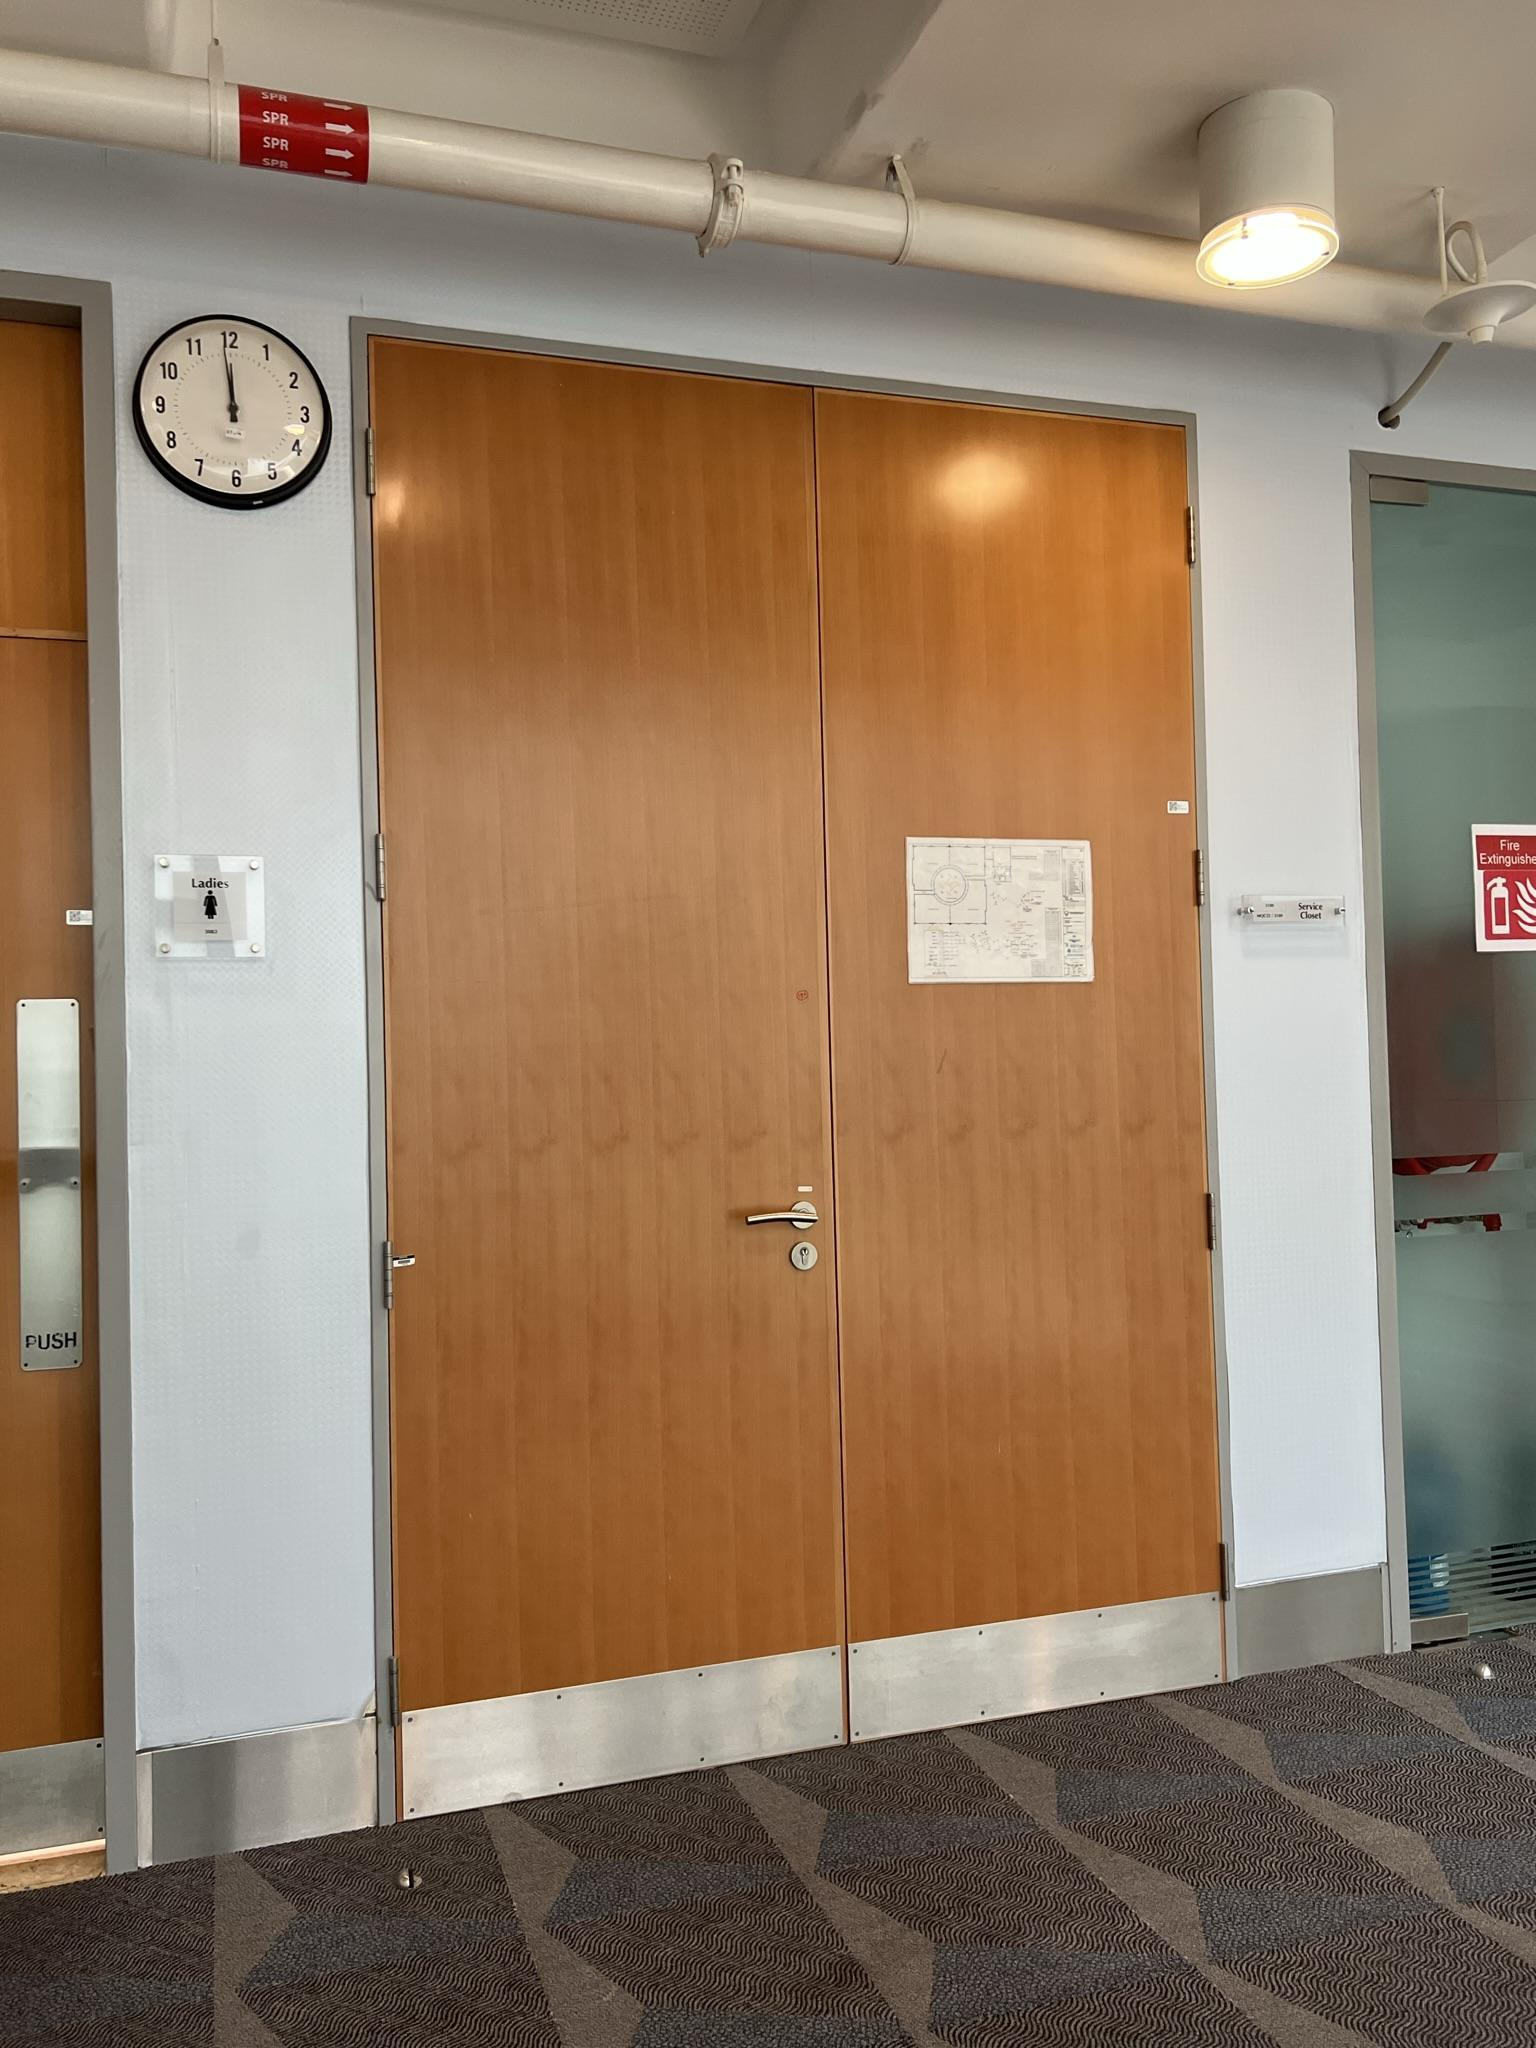door: (352, 321, 849, 1779), (828, 356, 1238, 1722)
handle: (728, 1192, 824, 1279)
